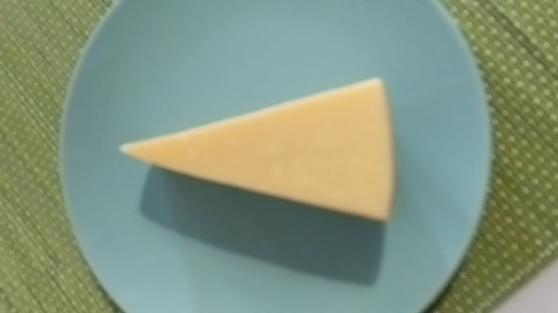cheese: (119, 72, 393, 227)
